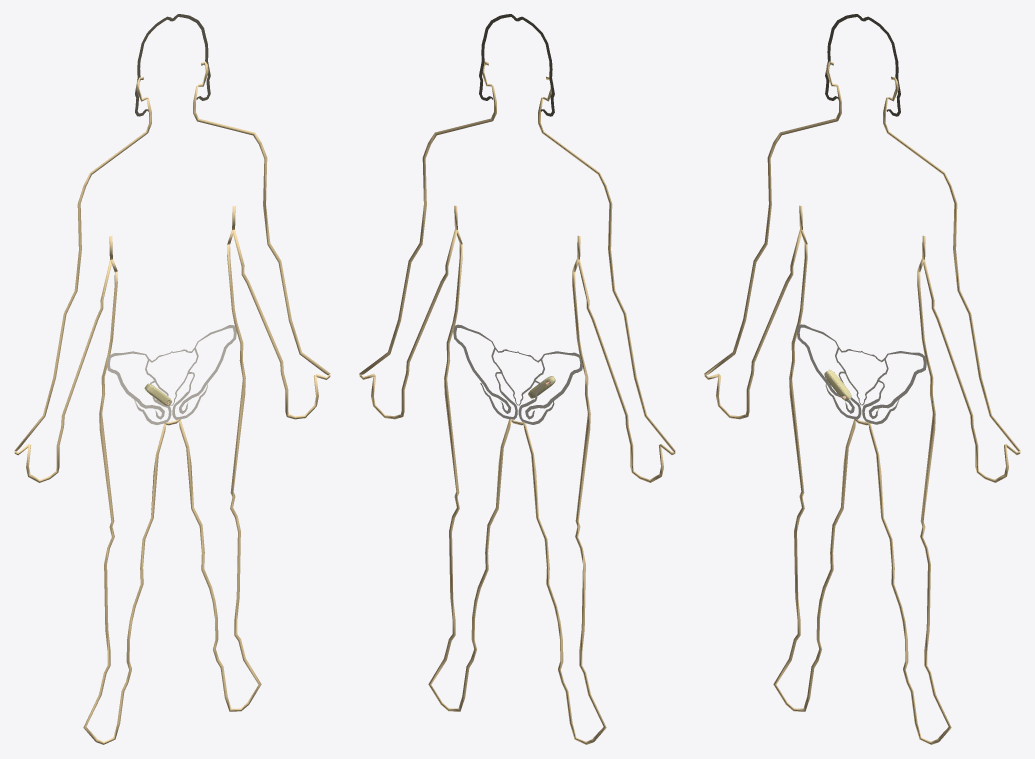
File: inguinal-canal.glb
3 views of the same model, side by side, from view 1: azimuth 30°, elevation 25°; view 2: azimuth 150°, elevation 25°; view 3: azimuth 330°, elevation 25° (orthographic).
Parts seen in each view (by area): view 1: Body Outline, Pelvic Bones, Hair; view 2: Body Outline, Pelvic Bones, Hair; view 3: Body Outline, Pelvic Bones, Hair.
Part boxes in pixels (x1,y1,x2,y2): Body Outline: (14,61,330,744); Pelvic Bones: (107,325,236,424); Hair: (135,14,210,116); Body Outline: (359,61,675,744); Pelvic Bones: (453,324,582,424); Hair: (479,14,554,116); Body Outline: (704,61,1020,744); Pelvic Bones: (796,324,926,424); Hair: (825,14,900,116).
Size of the model in its own units: 84.16 by 181 by 4.46.
